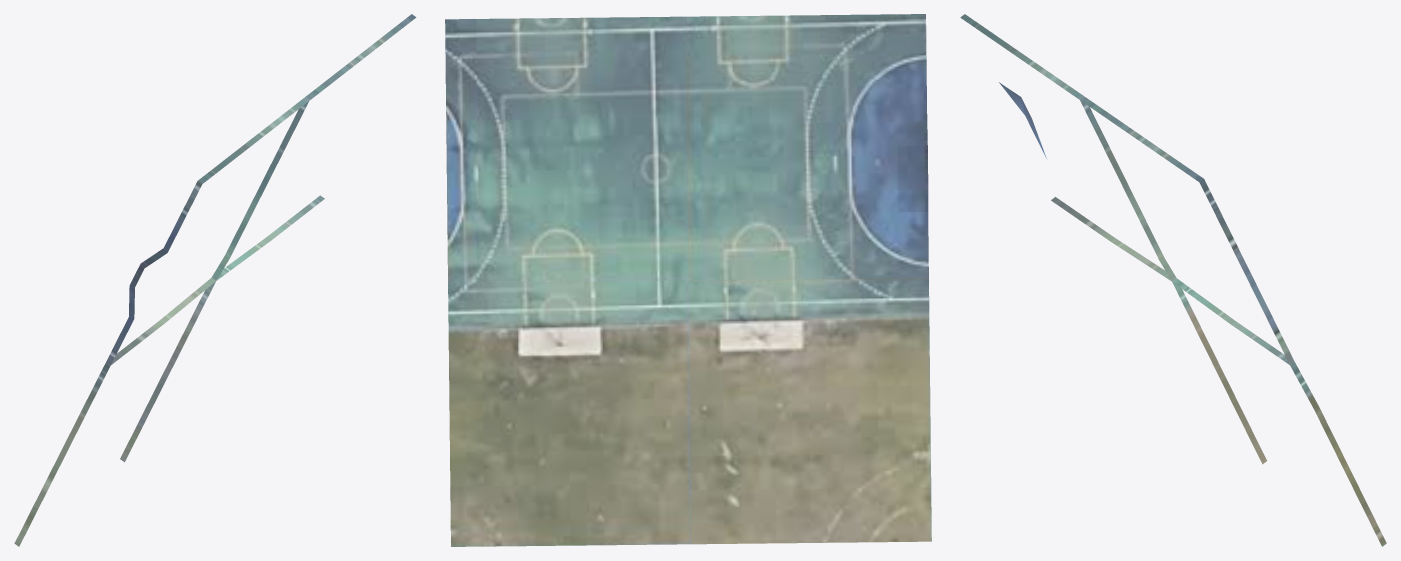
The picture shows the model from 3 angles, left to right: view 1: azimuth 30°, elevation 25°; view 2: azimuth 150°, elevation 25°; view 3: azimuth 270°, elevation 25°; orthographic projection. The views are drawn at different scales.
Bounding box in the file's own units: 38.19 × 34.68 × 32.32.
1 material, 1 textured.
